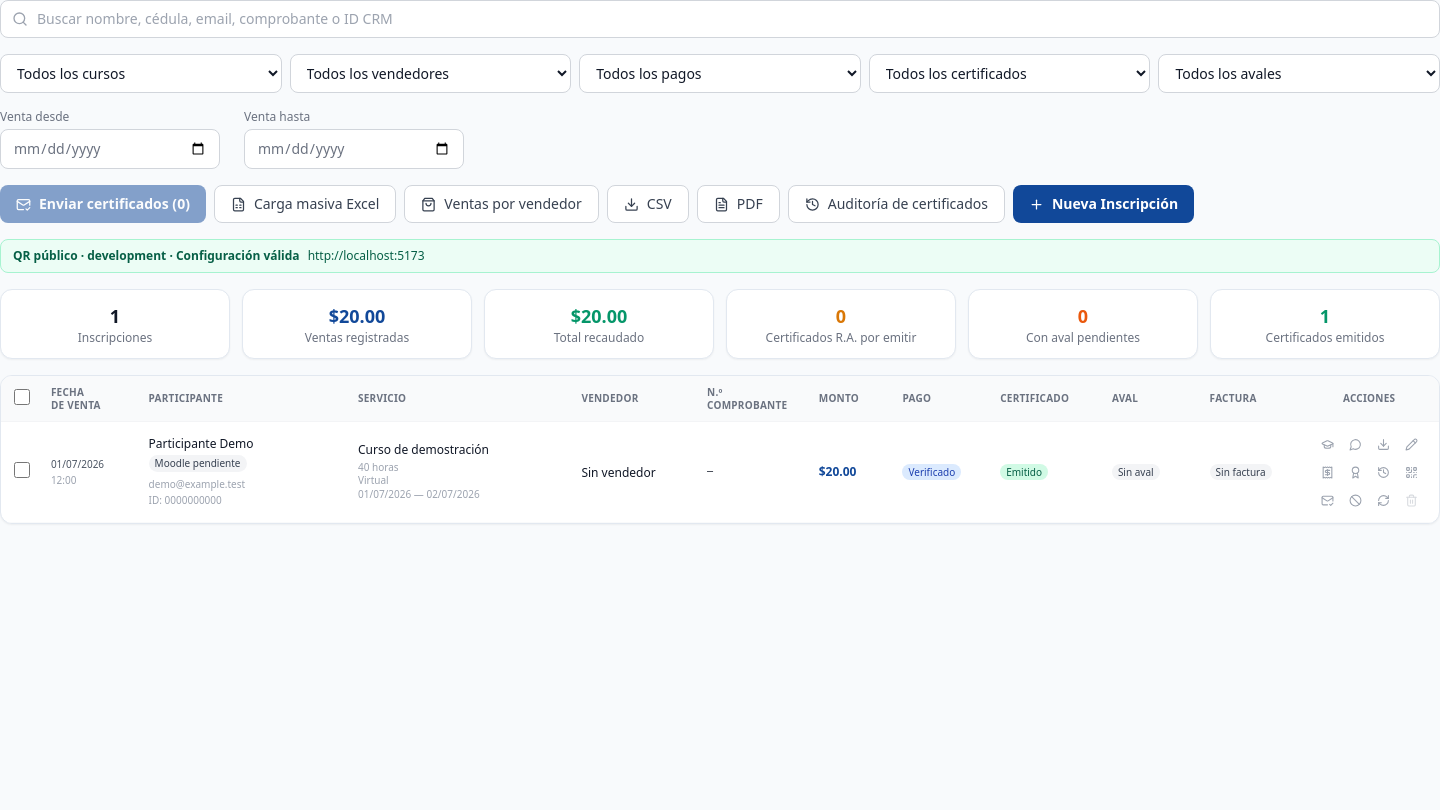
Test: acciones visibles en inscripciones › abre el historial administrativo y presenta cada versión con descarga del PDF original
Expected: the text "Participante Demo" is shown, [149,435,254,452]
Click the button named "Ver historial de versiones del certificado": click(1383, 472) [1371,460,1395,484]
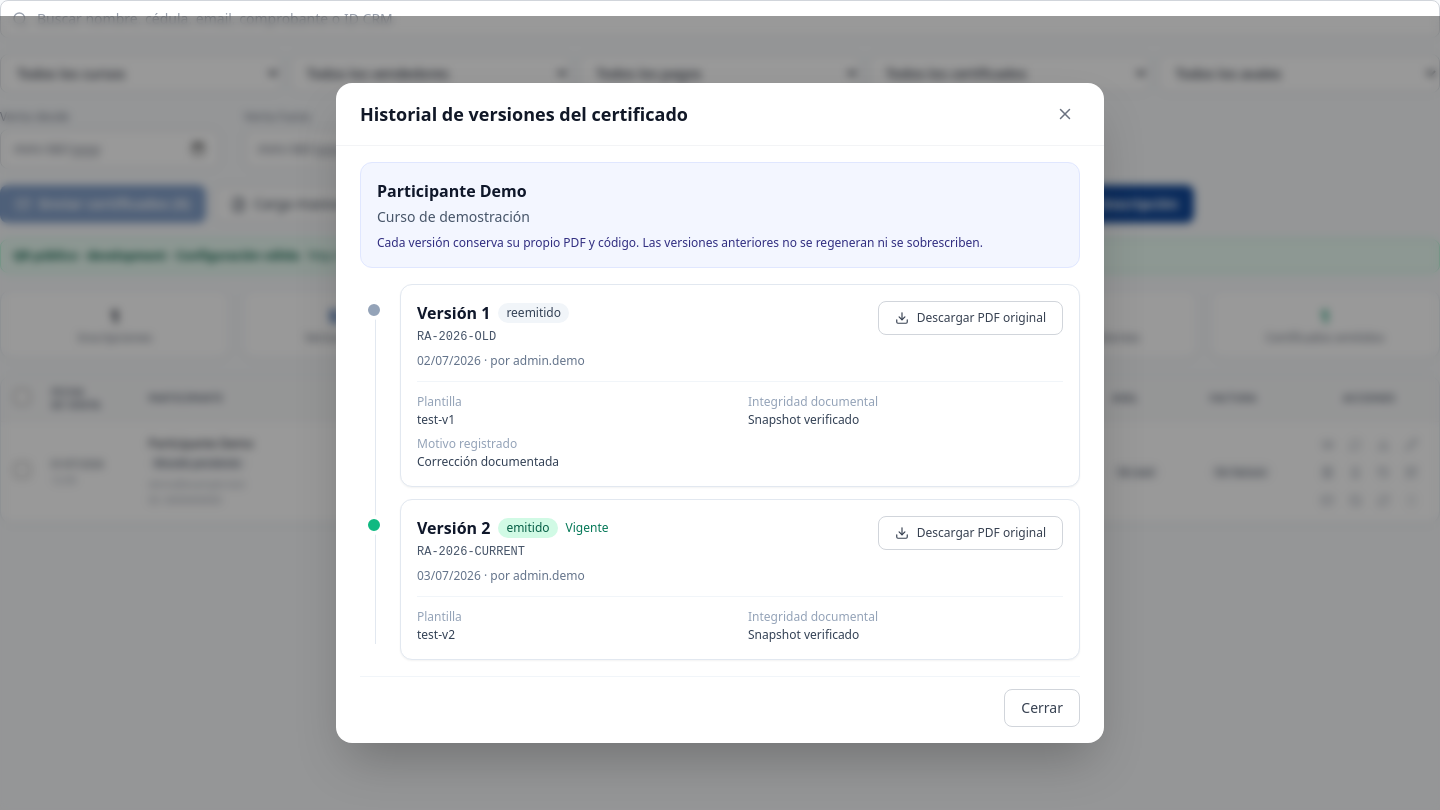
Now the heading "Historial de versiones del certificado" is shown, box [360,100,688,128]
Now the text "RA-2026-OLD" is shown, box [417,330,496,344]
Now the text "Corrección documentada" is shown, box [417,453,559,470]
